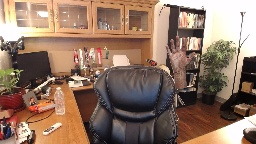Mano_aperta: (164, 35, 195, 72)
